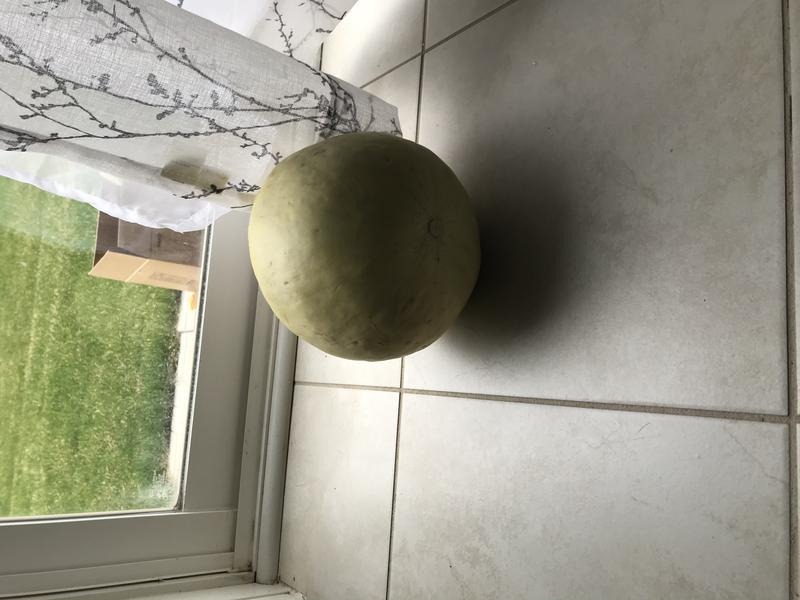honeydew: (237, 123, 485, 367)
